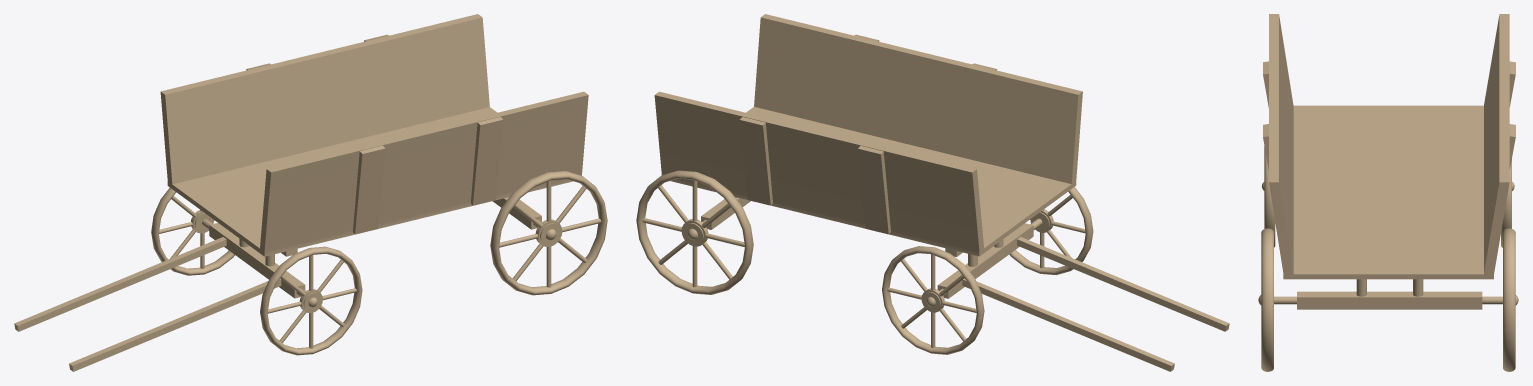
Rendered from Wagon.fbx.
3 renders of one model, left to right at view 1: azimuth 30°, elevation 25°; view 2: azimuth 150°, elevation 25°; view 3: azimuth 270°, elevation 25°, orthographic. The views are drawn at different scales.
Visible parts, largest first — view 1: pCube13; view 2: pCube13; view 3: pCube13.
Boxes of the visible parts, box(x1,y1,x2,y2) form: pCube13: box(14, 14, 607, 371); pCube13: box(636, 14, 1229, 371); pCube13: box(1258, 14, 1518, 371).
Size of the model in its own units: 21.95 by 7.91 by 8.96.
